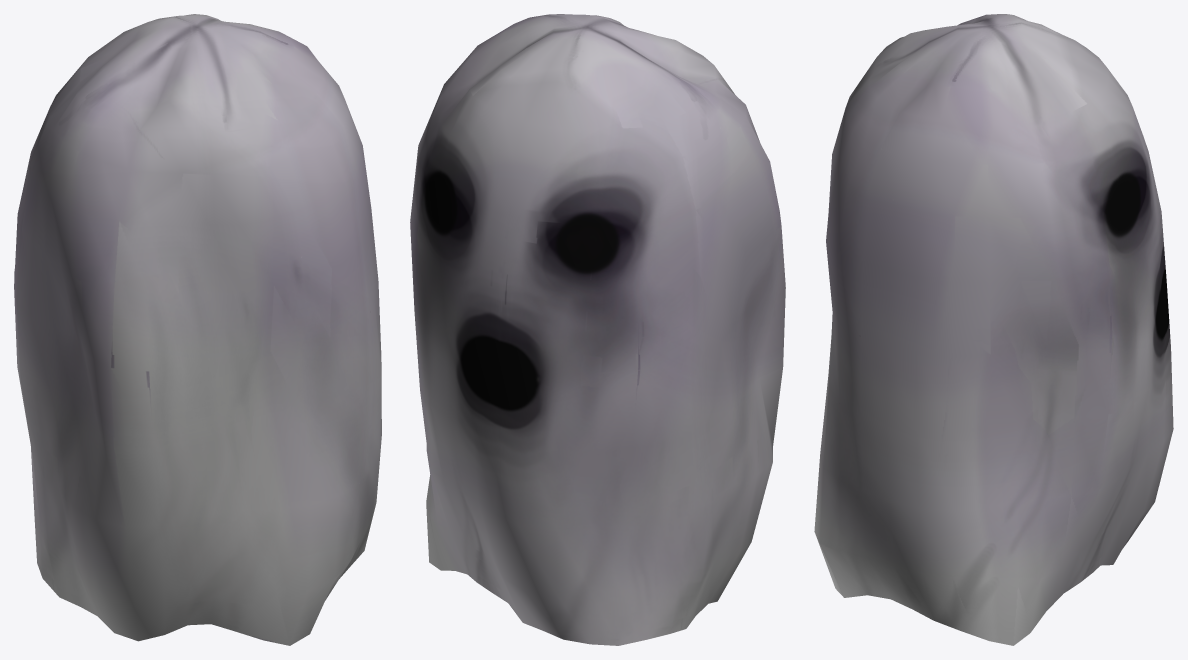
Rendered from Ghost_export.glb.
3 renders of one model, left to right at view 1: azimuth 30°, elevation 25°; view 2: azimuth 150°, elevation 25°; view 3: azimuth 270°, elevation 25°, orthographic. The views are drawn at different scales.
Parts seen in each view (by area): view 1: Sphere_BakedMorph; view 2: Sphere_BakedMorph; view 3: Sphere_BakedMorph.
Boxes of the visible parts, <box> form: Sphere_BakedMorph: <box>14,14,381,645</box>; Sphere_BakedMorph: <box>410,14,785,645</box>; Sphere_BakedMorph: <box>814,14,1173,645</box>.
Bounding box in the file's own units: 2.16 × 3.7 × 2.17.
Materials: 1 (1 with a texture image).
